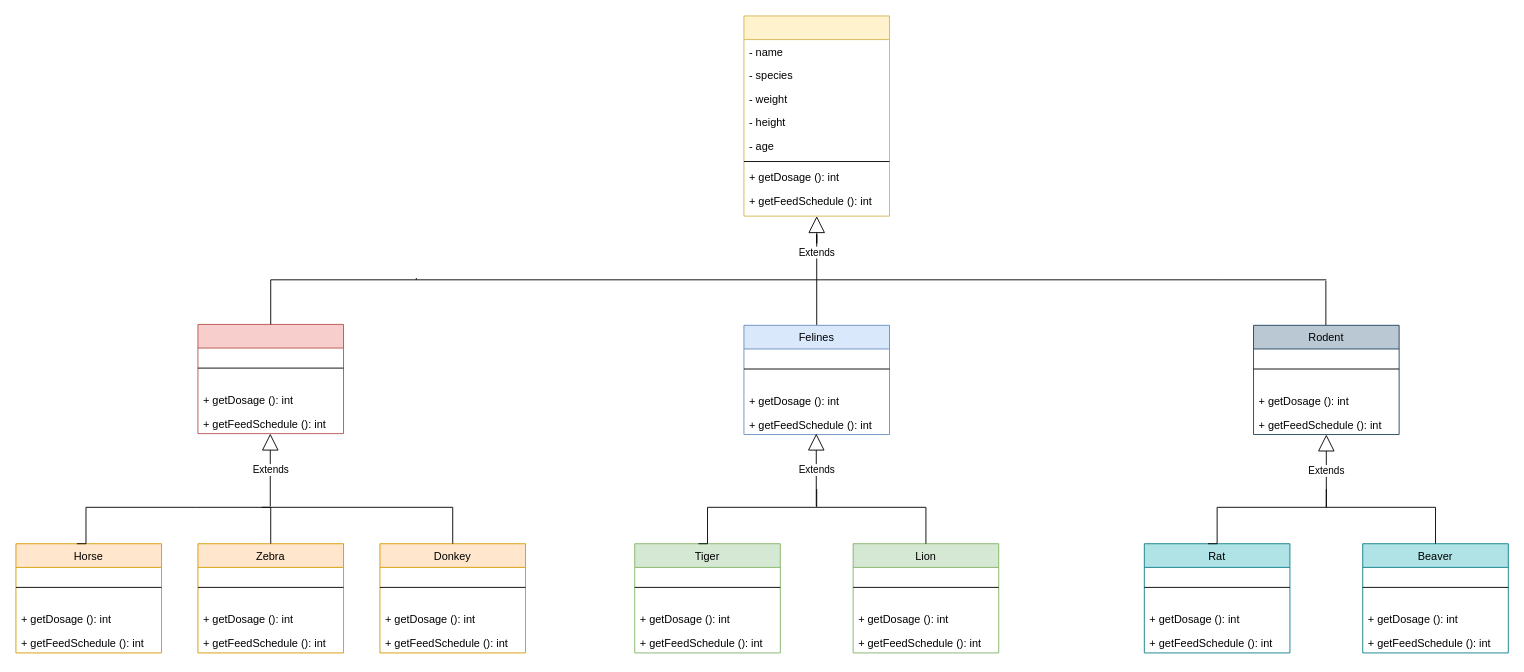
Image size: 1524x672. Some labels were removed from this diagram. The box of each missing label's shape, as (x1, y1, x2, y2) in pixels:
Animals: (743, 15, 890, 216)
Equidae: (197, 324, 344, 434)
